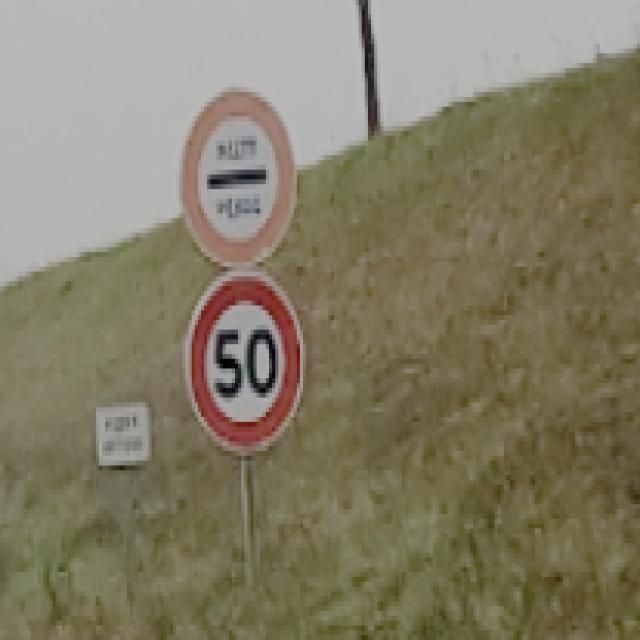speed_50: (186, 270, 305, 457)
